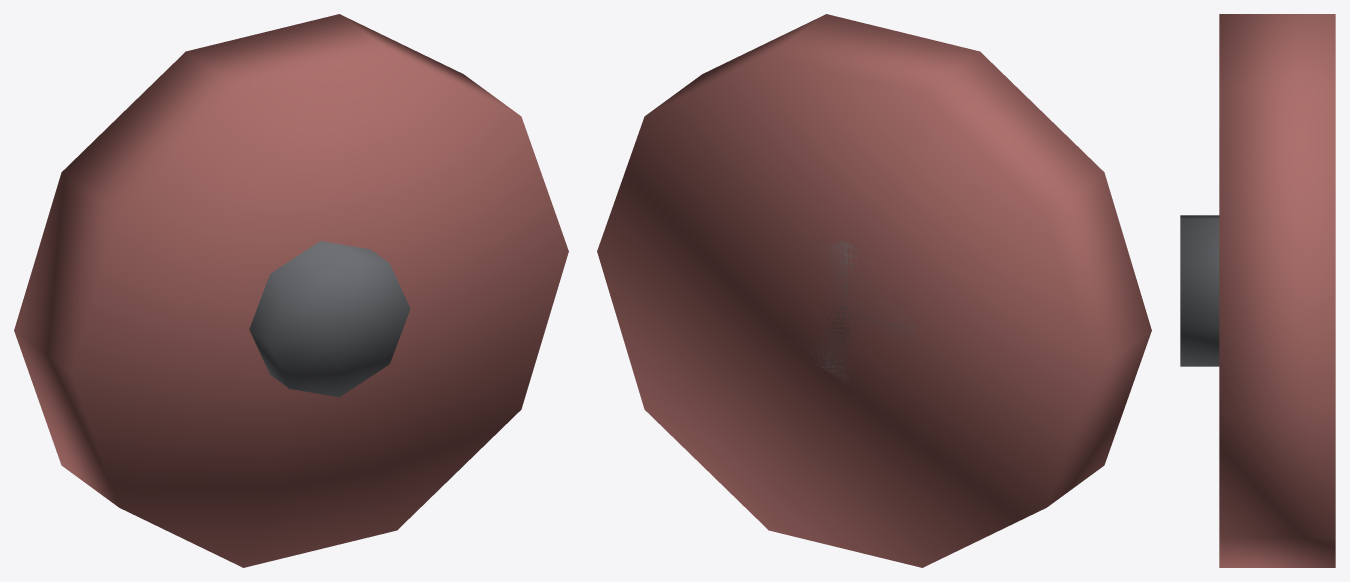
Rendered from hose_reel_10.glb.
3 renders of one model, left to right at view 1: azimuth 30°, elevation 25°; view 2: azimuth 150°, elevation 25°; view 3: azimuth 270°, elevation 25°, orthographic.
Visible parts, largest first — view 1: world; view 2: world; view 3: world.
Part boxes in pixels (x1,y1,x2,y2): world: (14, 14, 568, 567); world: (597, 14, 1151, 567); world: (1180, 14, 1335, 567).
Size of the model in its own units: 0.5376 by 0.49 by 0.144.
